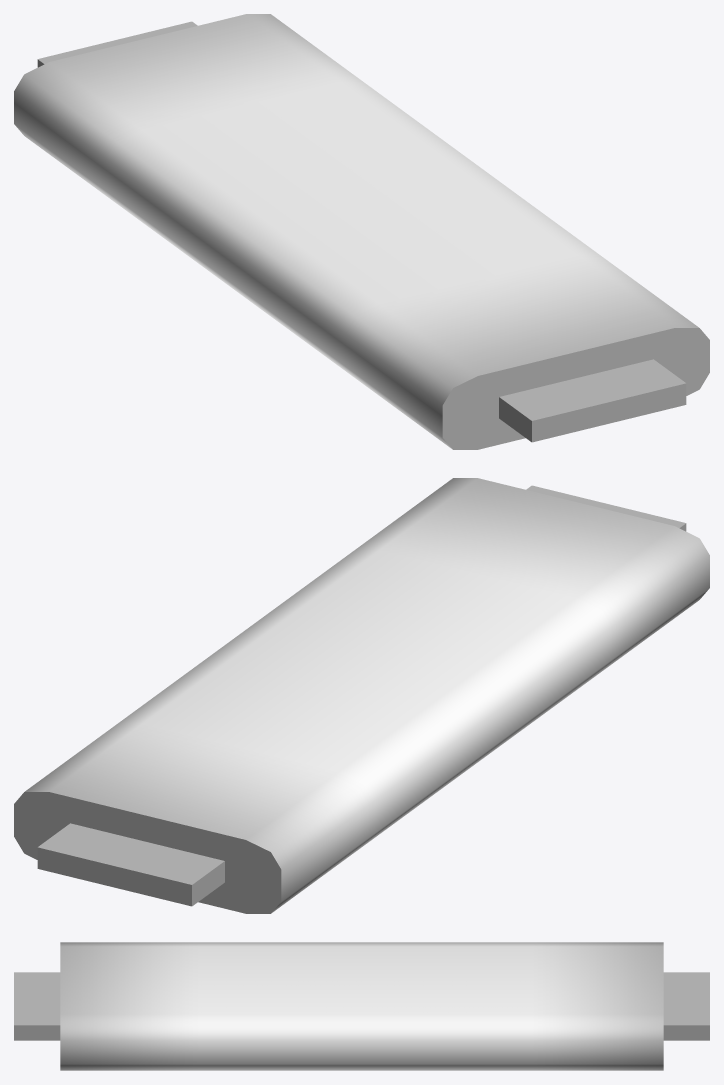
The model's file is bolt-3.fbx.
The picture shows the model from 3 angles, top to bottom: view 1: azimuth 30°, elevation 25°; view 2: azimuth 150°, elevation 25°; view 3: azimuth 270°, elevation 25°; orthographic projection. The views are drawn at different scales.
Visible parts, largest first — view 1: bolt-3; view 2: bolt-3; view 3: bolt-3.
Part boxes in pixels (left/top/right/bottom): bolt-3: left=14, top=14, right=709, bottom=449; bolt-3: left=14, top=478, right=709, bottom=913; bolt-3: left=14, top=942, right=709, bottom=1070.
Bounding box in the file's own units: 31.15 × 8.23 × 99.83.
Materials: 2 (2 with a texture image).
